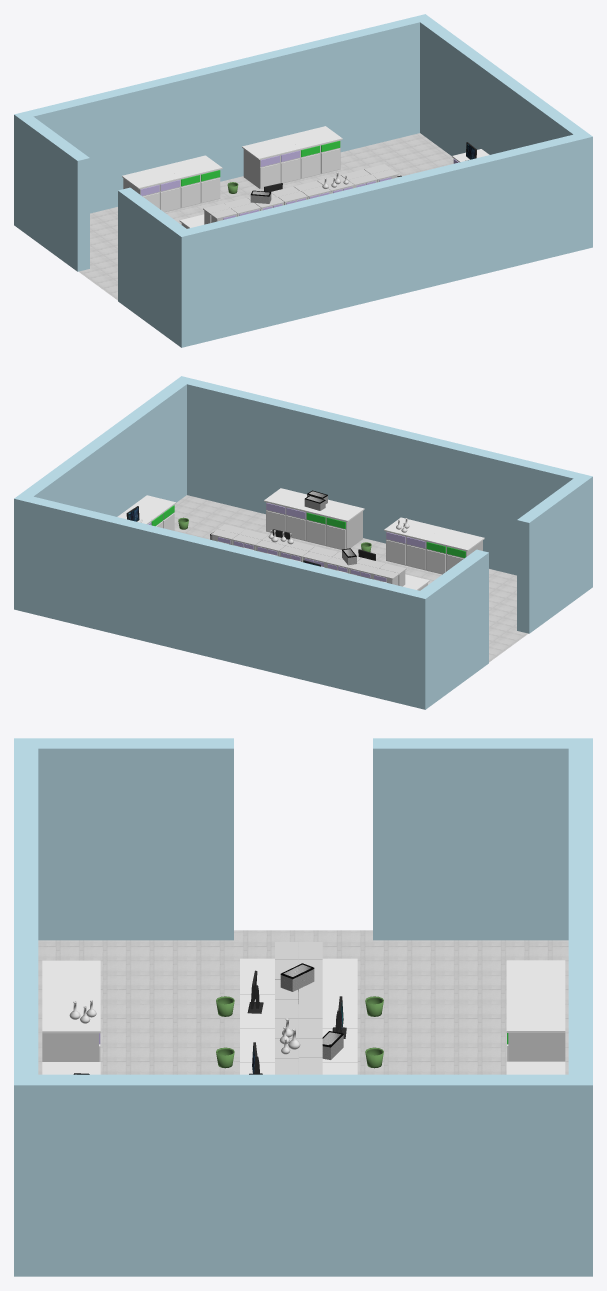
Rendered from lab_final_2.glb.
3 renders of one model, top to bottom at view 1: azimuth 30°, elevation 25°; view 2: azimuth 150°, elevation 25°; view 3: azimuth 270°, elevation 25°, orthographic. The views are drawn at different scales.
Parts seen in each view (by area): view 1: Plane, Plane.001, bancadaEsq.007, bancadaDir.006, bancadaDir.007, bancadaEsq.006; view 2: Plane, Plane.001, bancadaDir.004, bancadaEsq.005, bancadaDir.005, bancadaEsq.003, bancadaDir.003; view 3: Plane, Plane.001, bancadaDir.006, bancadaEsq.005, bancadaEsq.006, bancadaDir.005, bancadaDir.002, bancadaEsq.002, bancadaMeio.002, bancadaMeio.004, bancadaMeio.003, bancadaEsq.007 (+3 smaller).
Boxes of the visible parts, x1,y1,x2,y2 form: Plane: (14,14,592,347); Plane.001: (79,133,453,300); bancadaEsq.007: (242,136,300,188); bancadaDir.006: (164,155,222,208); bancadaDir.007: (284,126,342,179); bancadaEsq.006: (122,165,180,212); Plane: (14,376,592,709); Plane.001: (174,495,527,662); bancadaDir.004: (305,499,364,549); bancadaEsq.005: (384,517,442,570); bancadaDir.005: (426,527,484,574); bancadaEsq.003: (264,488,308,541); bancadaDir.003: (123,495,176,530); Plane: (14,738,592,1276); Plane.001: (38,930,568,1074); bancadaDir.006: (506,995,565,1061); bancadaEsq.005: (42,996,100,1061); bancadaEsq.006: (506,960,565,995); bancadaDir.005: (42,960,100,995); bancadaDir.002: (322,958,357,993); bancadaEsq.002: (240,958,274,994); bancadaMeio.002: (240,1028,274,1062); bancadaMeio.004: (322,994,357,1028); bancadaMeio.003: (240,994,274,1028); bancadaEsq.007: (506,1061,565,1074).
Size of the model in its own units: 11.66 by 3 by 8.22.
Materials: 20 (10 with a texture image).
